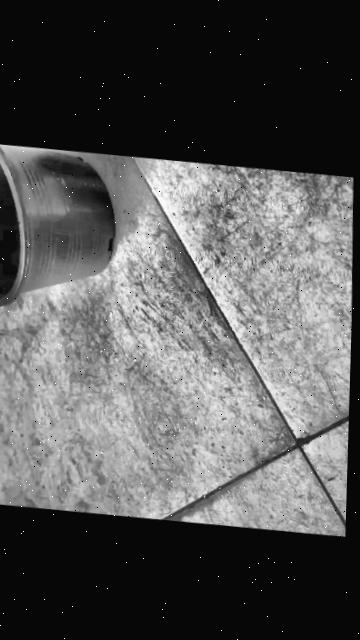pot: (0, 141, 119, 319)
